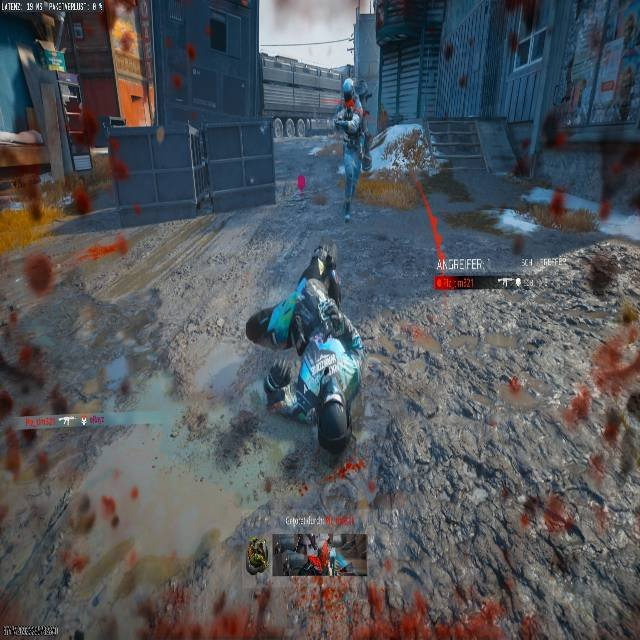head: (302, 246, 340, 296), (341, 78, 355, 98)
player: (246, 245, 363, 470), (333, 77, 371, 223)
